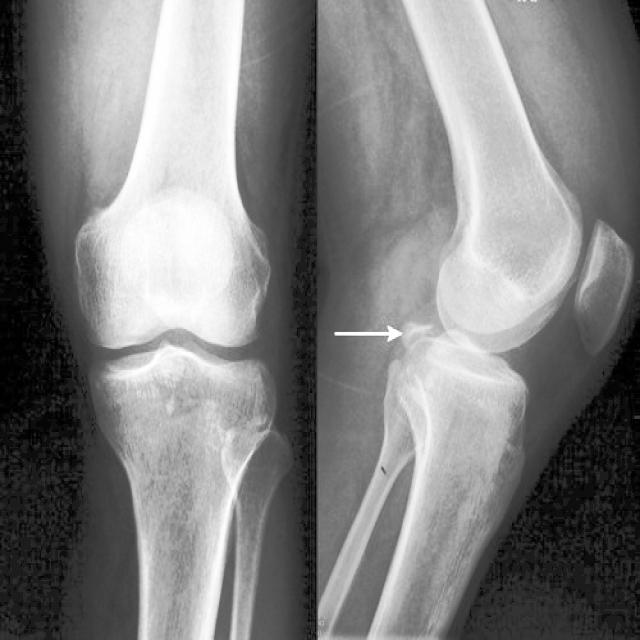Avlusion Fracture: (398, 306, 440, 356)
